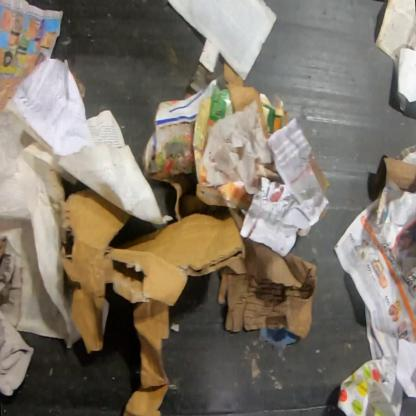cardboard: (59, 186, 245, 416), (217, 243, 318, 340), (218, 76, 267, 137), (259, 89, 285, 137), (384, 155, 415, 195), (309, 151, 330, 196), (223, 59, 244, 88)
